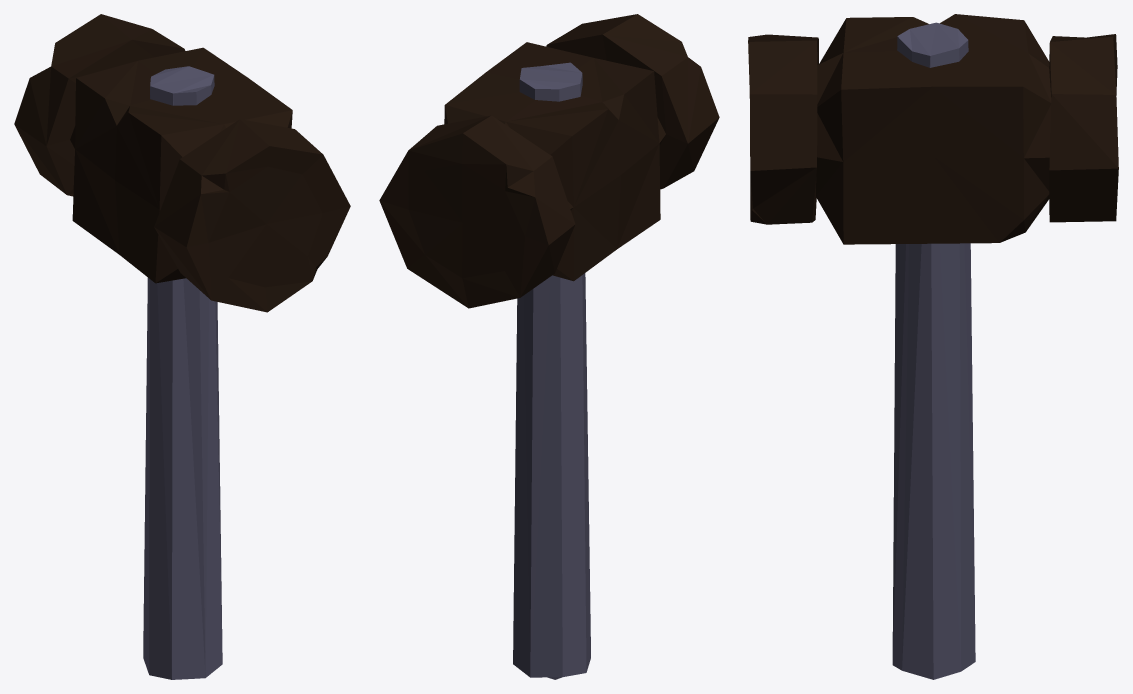
File: SFFA_Hammer_004.fbx
The picture shows the model from 3 angles, left to right: view 1: azimuth 30°, elevation 25°; view 2: azimuth 150°, elevation 25°; view 3: azimuth 270°, elevation 25°; orthographic projection. The views are drawn at different scales.
Parts seen in each view (by area): view 1: SFFA_Hammer_004; view 2: SFFA_Hammer_004; view 3: SFFA_Hammer_004.
Part boxes in pixels (x1,y1,x2,y2): SFFA_Hammer_004: (14,14,350,679); SFFA_Hammer_004: (379,14,719,679); SFFA_Hammer_004: (748,14,1118,679).
Bounding box in the file's own units: 7.16 × 24.4 × 12.96.
